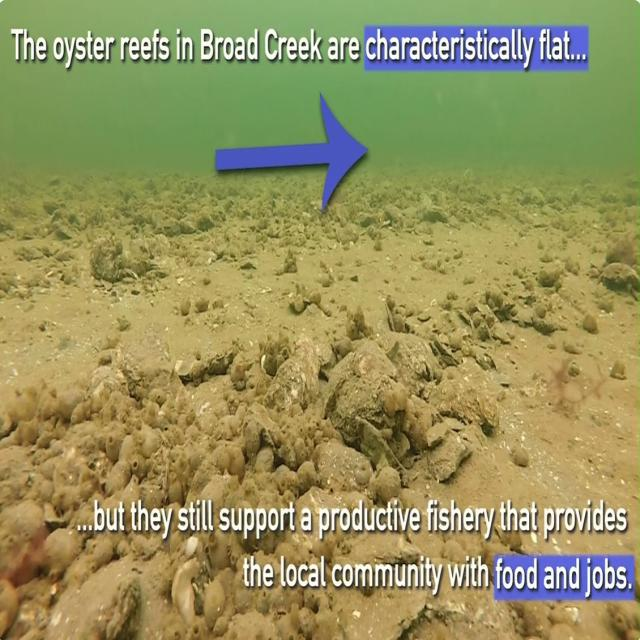Oyster- Indeterminate: (422, 351, 520, 447), (376, 318, 447, 402), (345, 411, 414, 497), (70, 559, 142, 640), (115, 326, 179, 401), (310, 435, 375, 496), (263, 346, 320, 411), (189, 372, 242, 436), (32, 519, 89, 578), (74, 357, 133, 414), (418, 428, 475, 484), (167, 556, 201, 627), (293, 336, 324, 406), (0, 500, 45, 547), (346, 607, 409, 640), (199, 339, 246, 380), (171, 349, 212, 391), (89, 233, 123, 282), (0, 457, 31, 507), (513, 602, 553, 640), (48, 208, 86, 244), (309, 194, 344, 227), (535, 256, 567, 292), (0, 578, 19, 637), (600, 263, 639, 290), (468, 341, 497, 376), (606, 236, 637, 267), (125, 231, 154, 263), (202, 229, 231, 260), (521, 292, 551, 321), (467, 310, 493, 343), (473, 299, 500, 328), (418, 196, 448, 222), (220, 238, 249, 263), (44, 503, 70, 530), (191, 206, 216, 234), (488, 321, 512, 349), (335, 221, 361, 246), (548, 605, 580, 625), (547, 622, 580, 640), (510, 304, 534, 328), (193, 249, 219, 271), (383, 204, 405, 229), (125, 254, 147, 275), (458, 307, 475, 333), (485, 287, 505, 308), (358, 210, 380, 228), (582, 310, 599, 333), (0, 411, 14, 438), (511, 446, 529, 467), (162, 217, 181, 236), (610, 360, 626, 380), (43, 201, 65, 215), (144, 178, 161, 196), (202, 250, 219, 267), (180, 217, 197, 234), (48, 177, 60, 185)
Oyster-Closed: (519, 188, 545, 206)
Oyster-Open: (303, 335, 420, 452), (145, 256, 172, 279), (123, 267, 139, 279)
